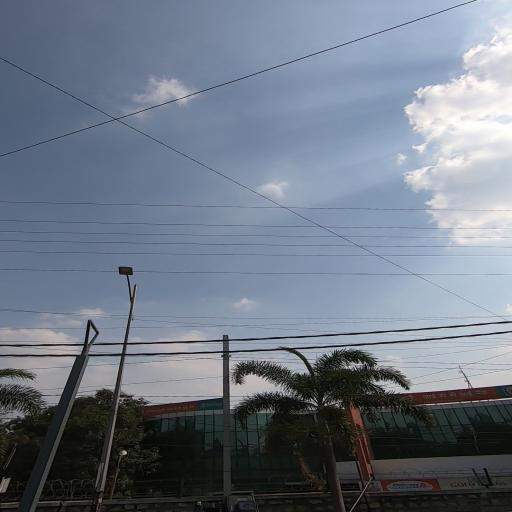Street_light: (116, 264, 138, 292)
